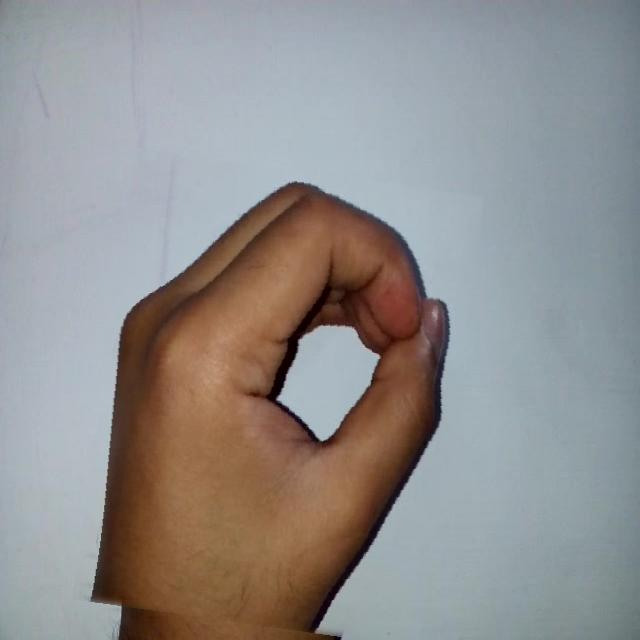O: (87, 159, 469, 637)
